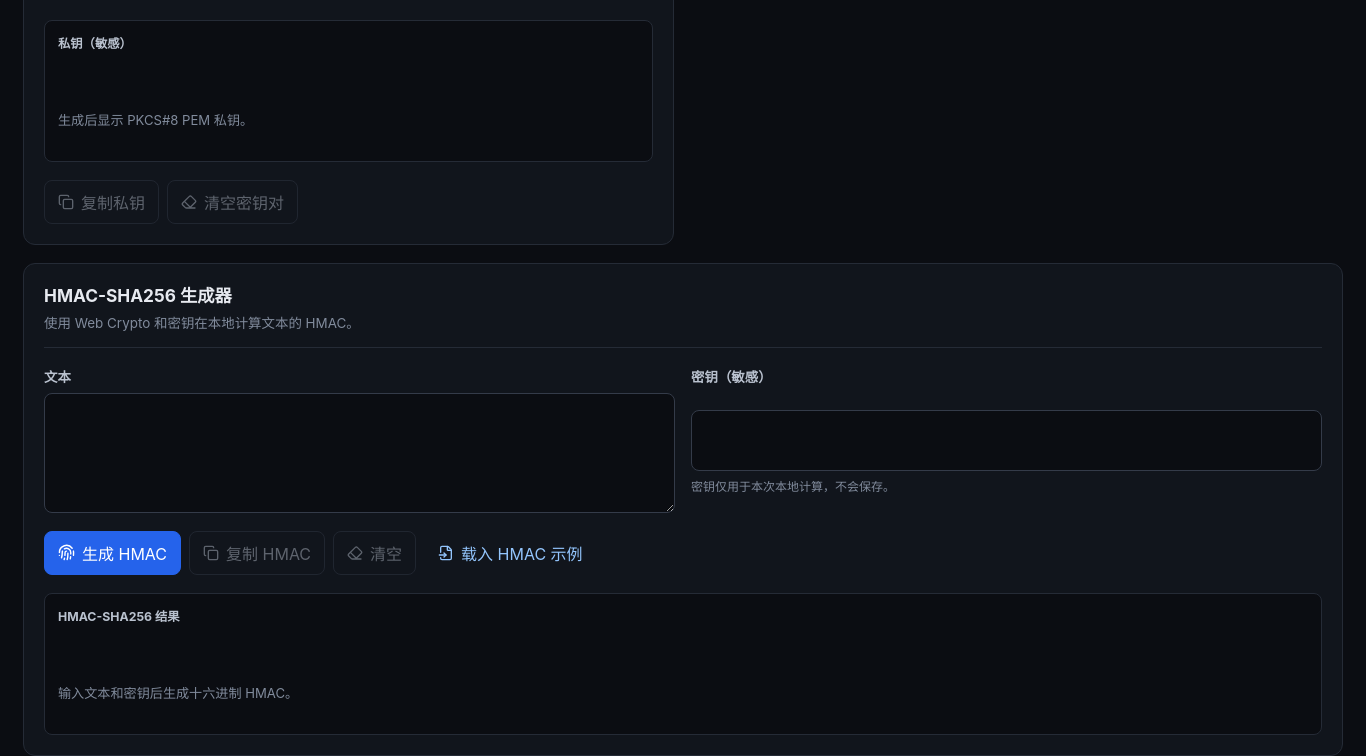
Test: SecurityTools › computes HMAC through Web Crypto and clears the secret and result
(page scrolled)
Type "hello" into the text box labelled "文本".
click(360, 453); type("hello")  # box 44,393 -> 675,513
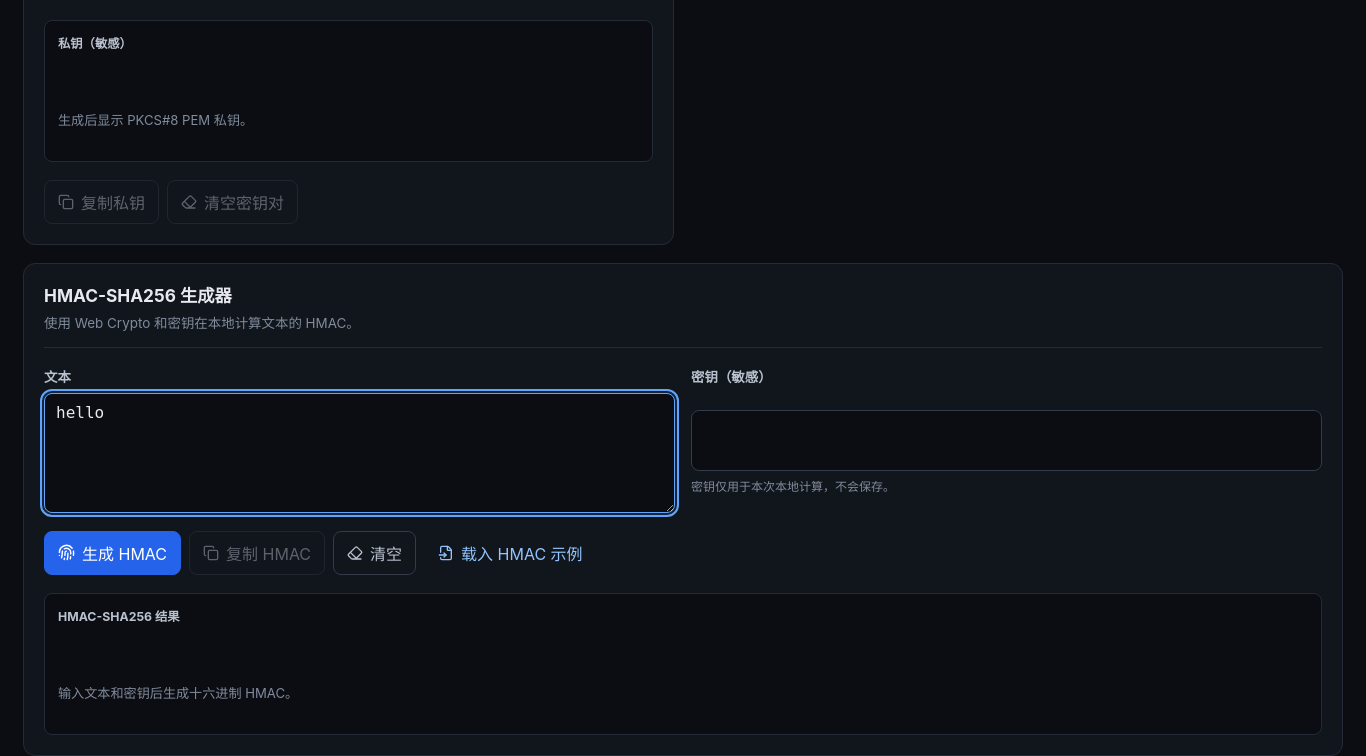
Type "secret" into the password field labelled "密钥（敏感）".
click(1006, 441); type("secret")  # box 691,410 -> 1322,471
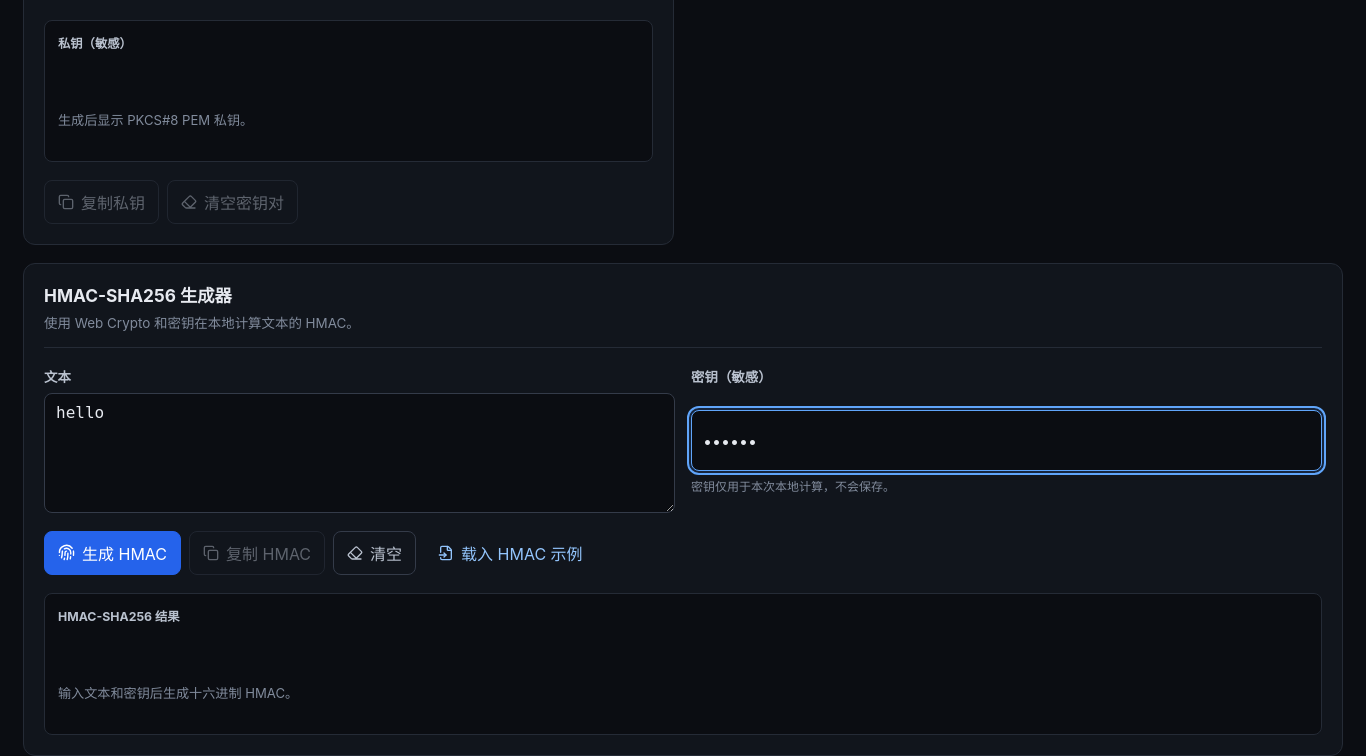
Click the button "生成 HMAC".
click(112, 553)  # box 44,531 -> 181,575
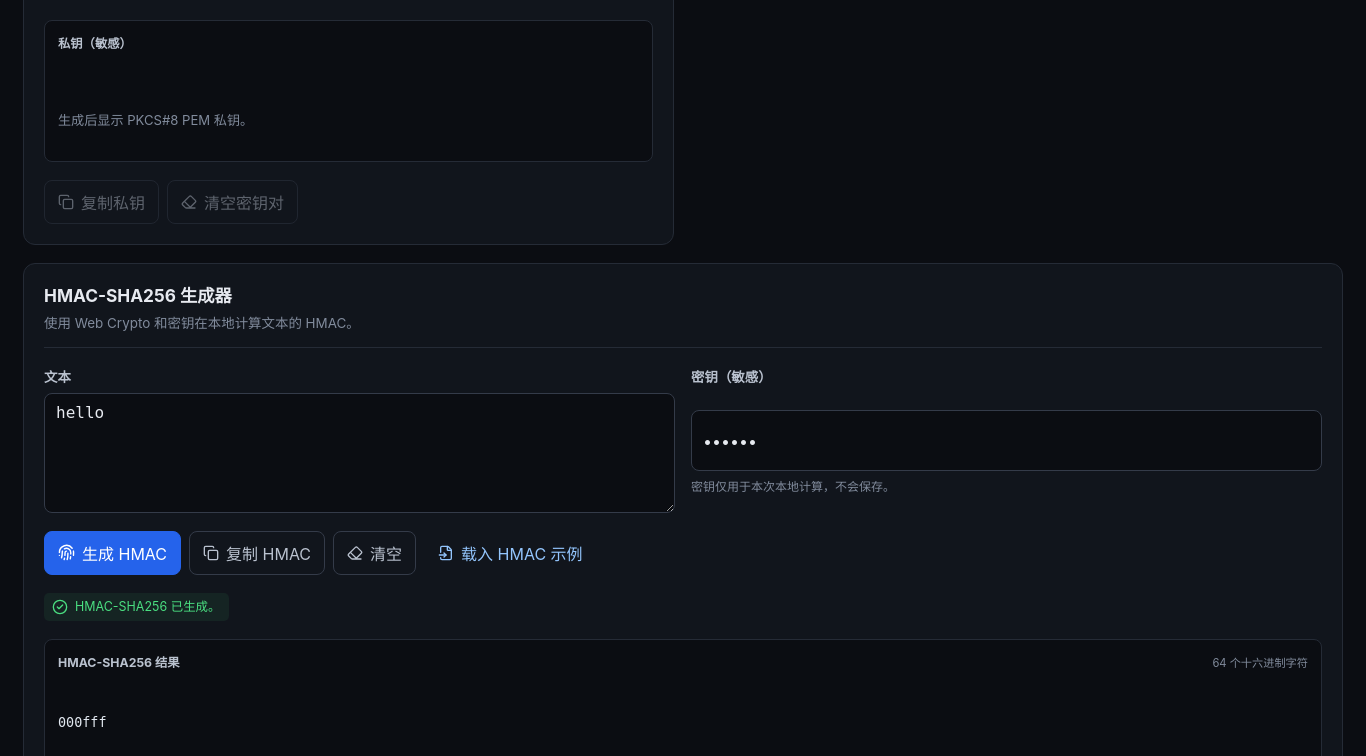
Now the element "HMAC-SHA256 结果" shows "000fff", box 58,715 -> 106,730
Click the button "清空".
click(375, 553)  # box 333,531 -> 416,575
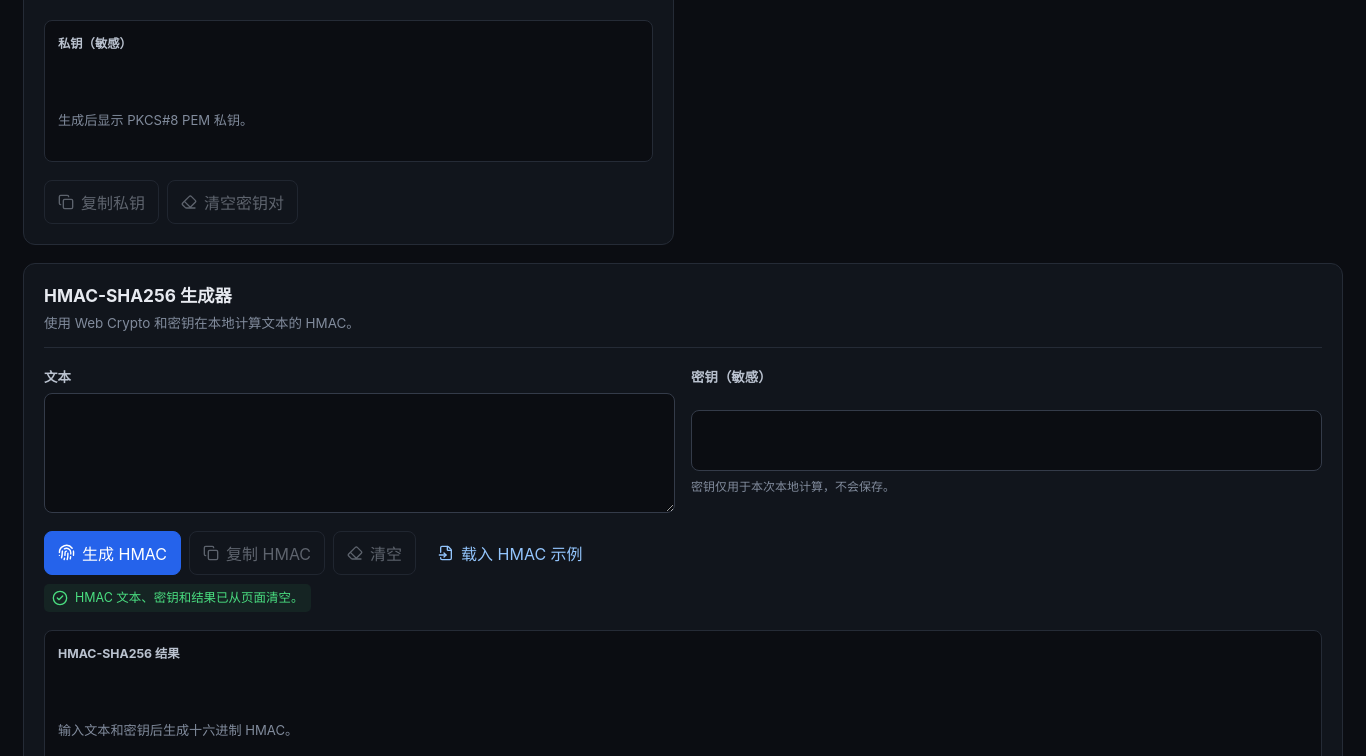
Now the text box labelled "文本" is empty, box 44,393 -> 675,513
Now the password field labelled "密钥（敏感）" is empty, box 691,410 -> 1322,471
Now the element "HMAC-SHA256 结果" shows "输入文本和密钥后生成十六进制 HMAC", box 58,722 -> 298,738
